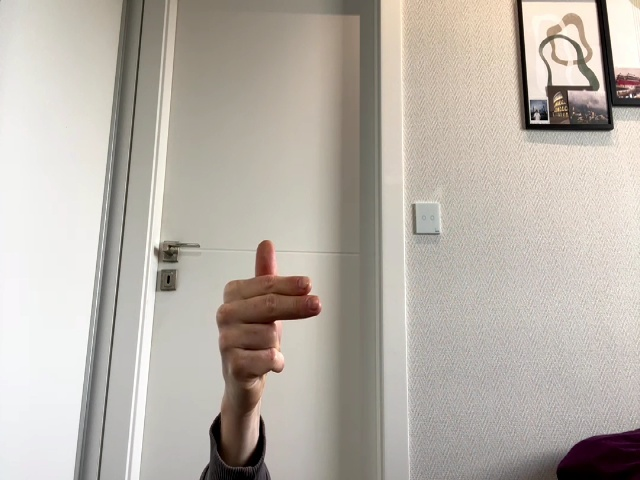N: (217, 240, 321, 389)
